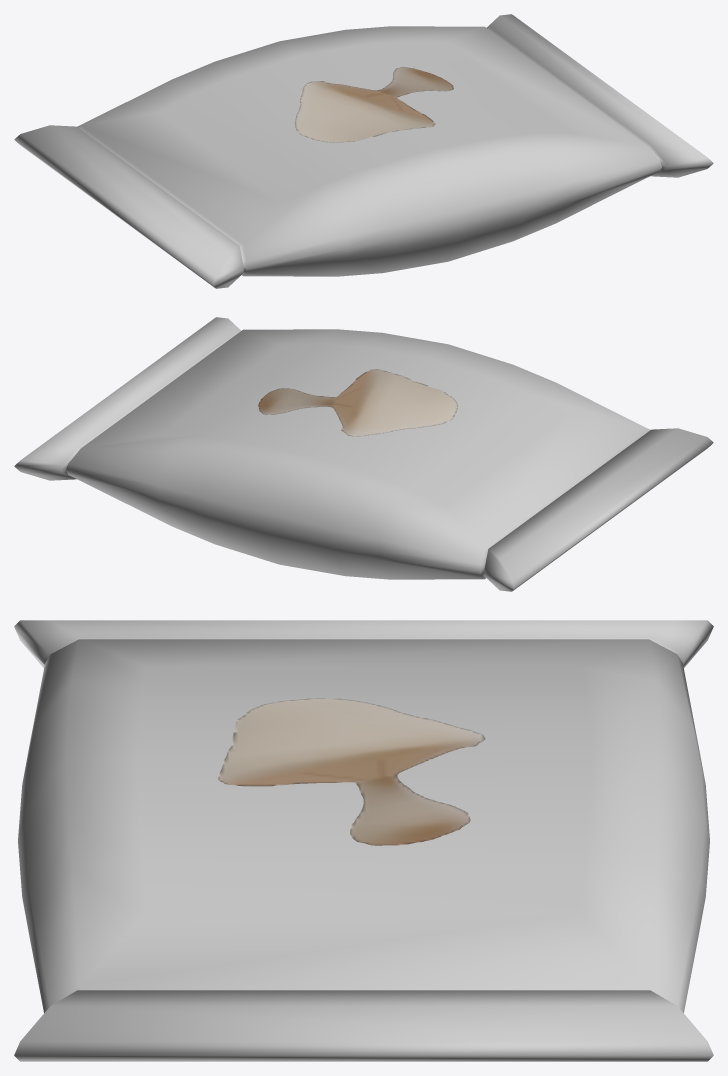
The model's file is mushroom_seedpack.fbx.
The picture shows the model from 3 angles, top to bottom: view 1: azimuth 30°, elevation 25°; view 2: azimuth 150°, elevation 25°; view 3: azimuth 270°, elevation 25°; orthographic projection. The views are drawn at different scales.
Visible parts, largest first — view 1: mushroom_seed_pack, mushroom_seed_pack_top; view 2: mushroom_seed_pack, mushroom_seed_pack_top; view 3: mushroom_seed_pack, mushroom_seed_pack_top.
Boxes of the visible parts, x1=… form: mushroom_seed_pack: x1=14, y1=14, x2=713, y2=288; mushroom_seed_pack_top: x1=294, y1=67, x2=453, y2=142; mushroom_seed_pack: x1=14, y1=317, x2=713, y2=591; mushroom_seed_pack_top: x1=258, y1=369, x2=458, y2=436; mushroom_seed_pack: x1=14, y1=620, x2=713, y2=1061; mushroom_seed_pack_top: x1=218, y1=698, x2=485, y2=845.
Bounding box in the file's own units: 2.17 × 0.4067 × 1.49.
